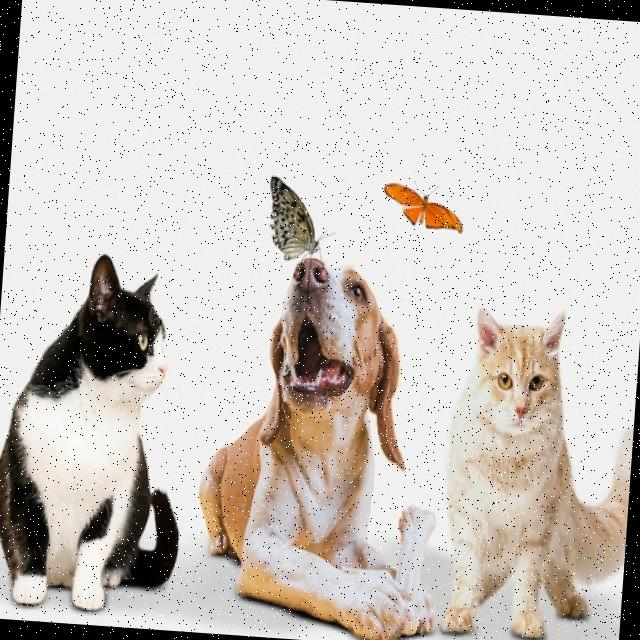Dog: (188, 245, 454, 640)
